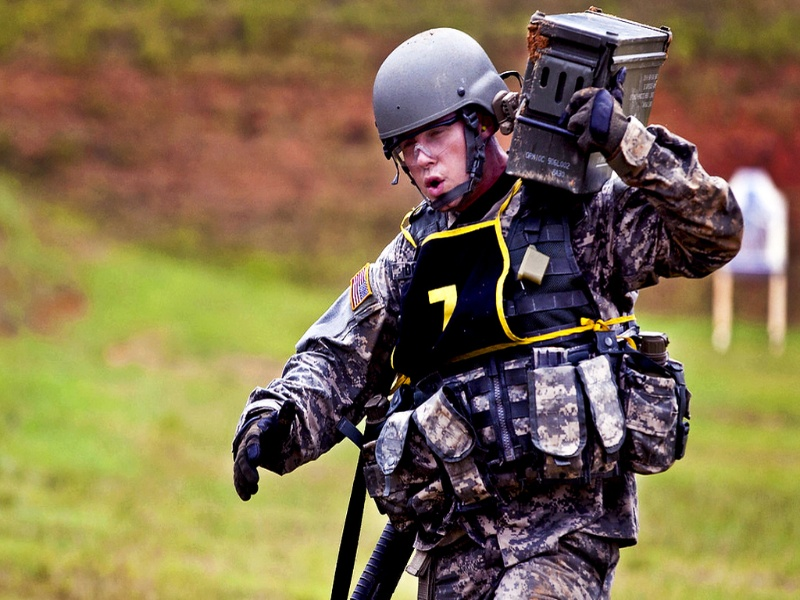Baret: (372, 27, 503, 137)
Gozluk: (386, 123, 467, 155)
